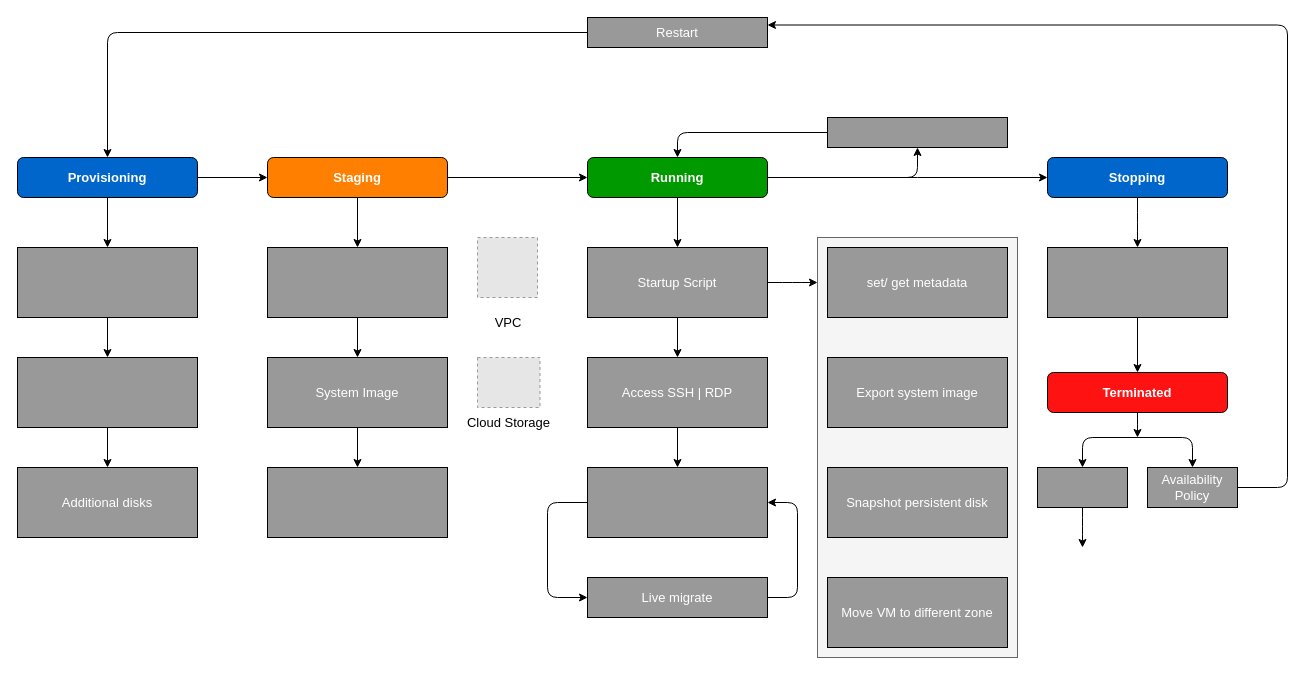
Image size: 1313x675. Some labels were removed from this diagram. Grey dashed boxes stand in for pictures. Here are the shapes that lost their labels. From the top down, the box of each, then its label:
(826, 116, 1008, 148): Reset
(16, 246, 198, 318): Vitual CPUs + Memory
(266, 246, 448, 318): IP addresses internal/ external
(1046, 246, 1228, 318): Shutdown Script
(16, 356, 198, 428): Root disk Persistent disk
(266, 466, 448, 538): Boot
(586, 466, 768, 538): Modify Use
(1036, 466, 1128, 508): Delete
